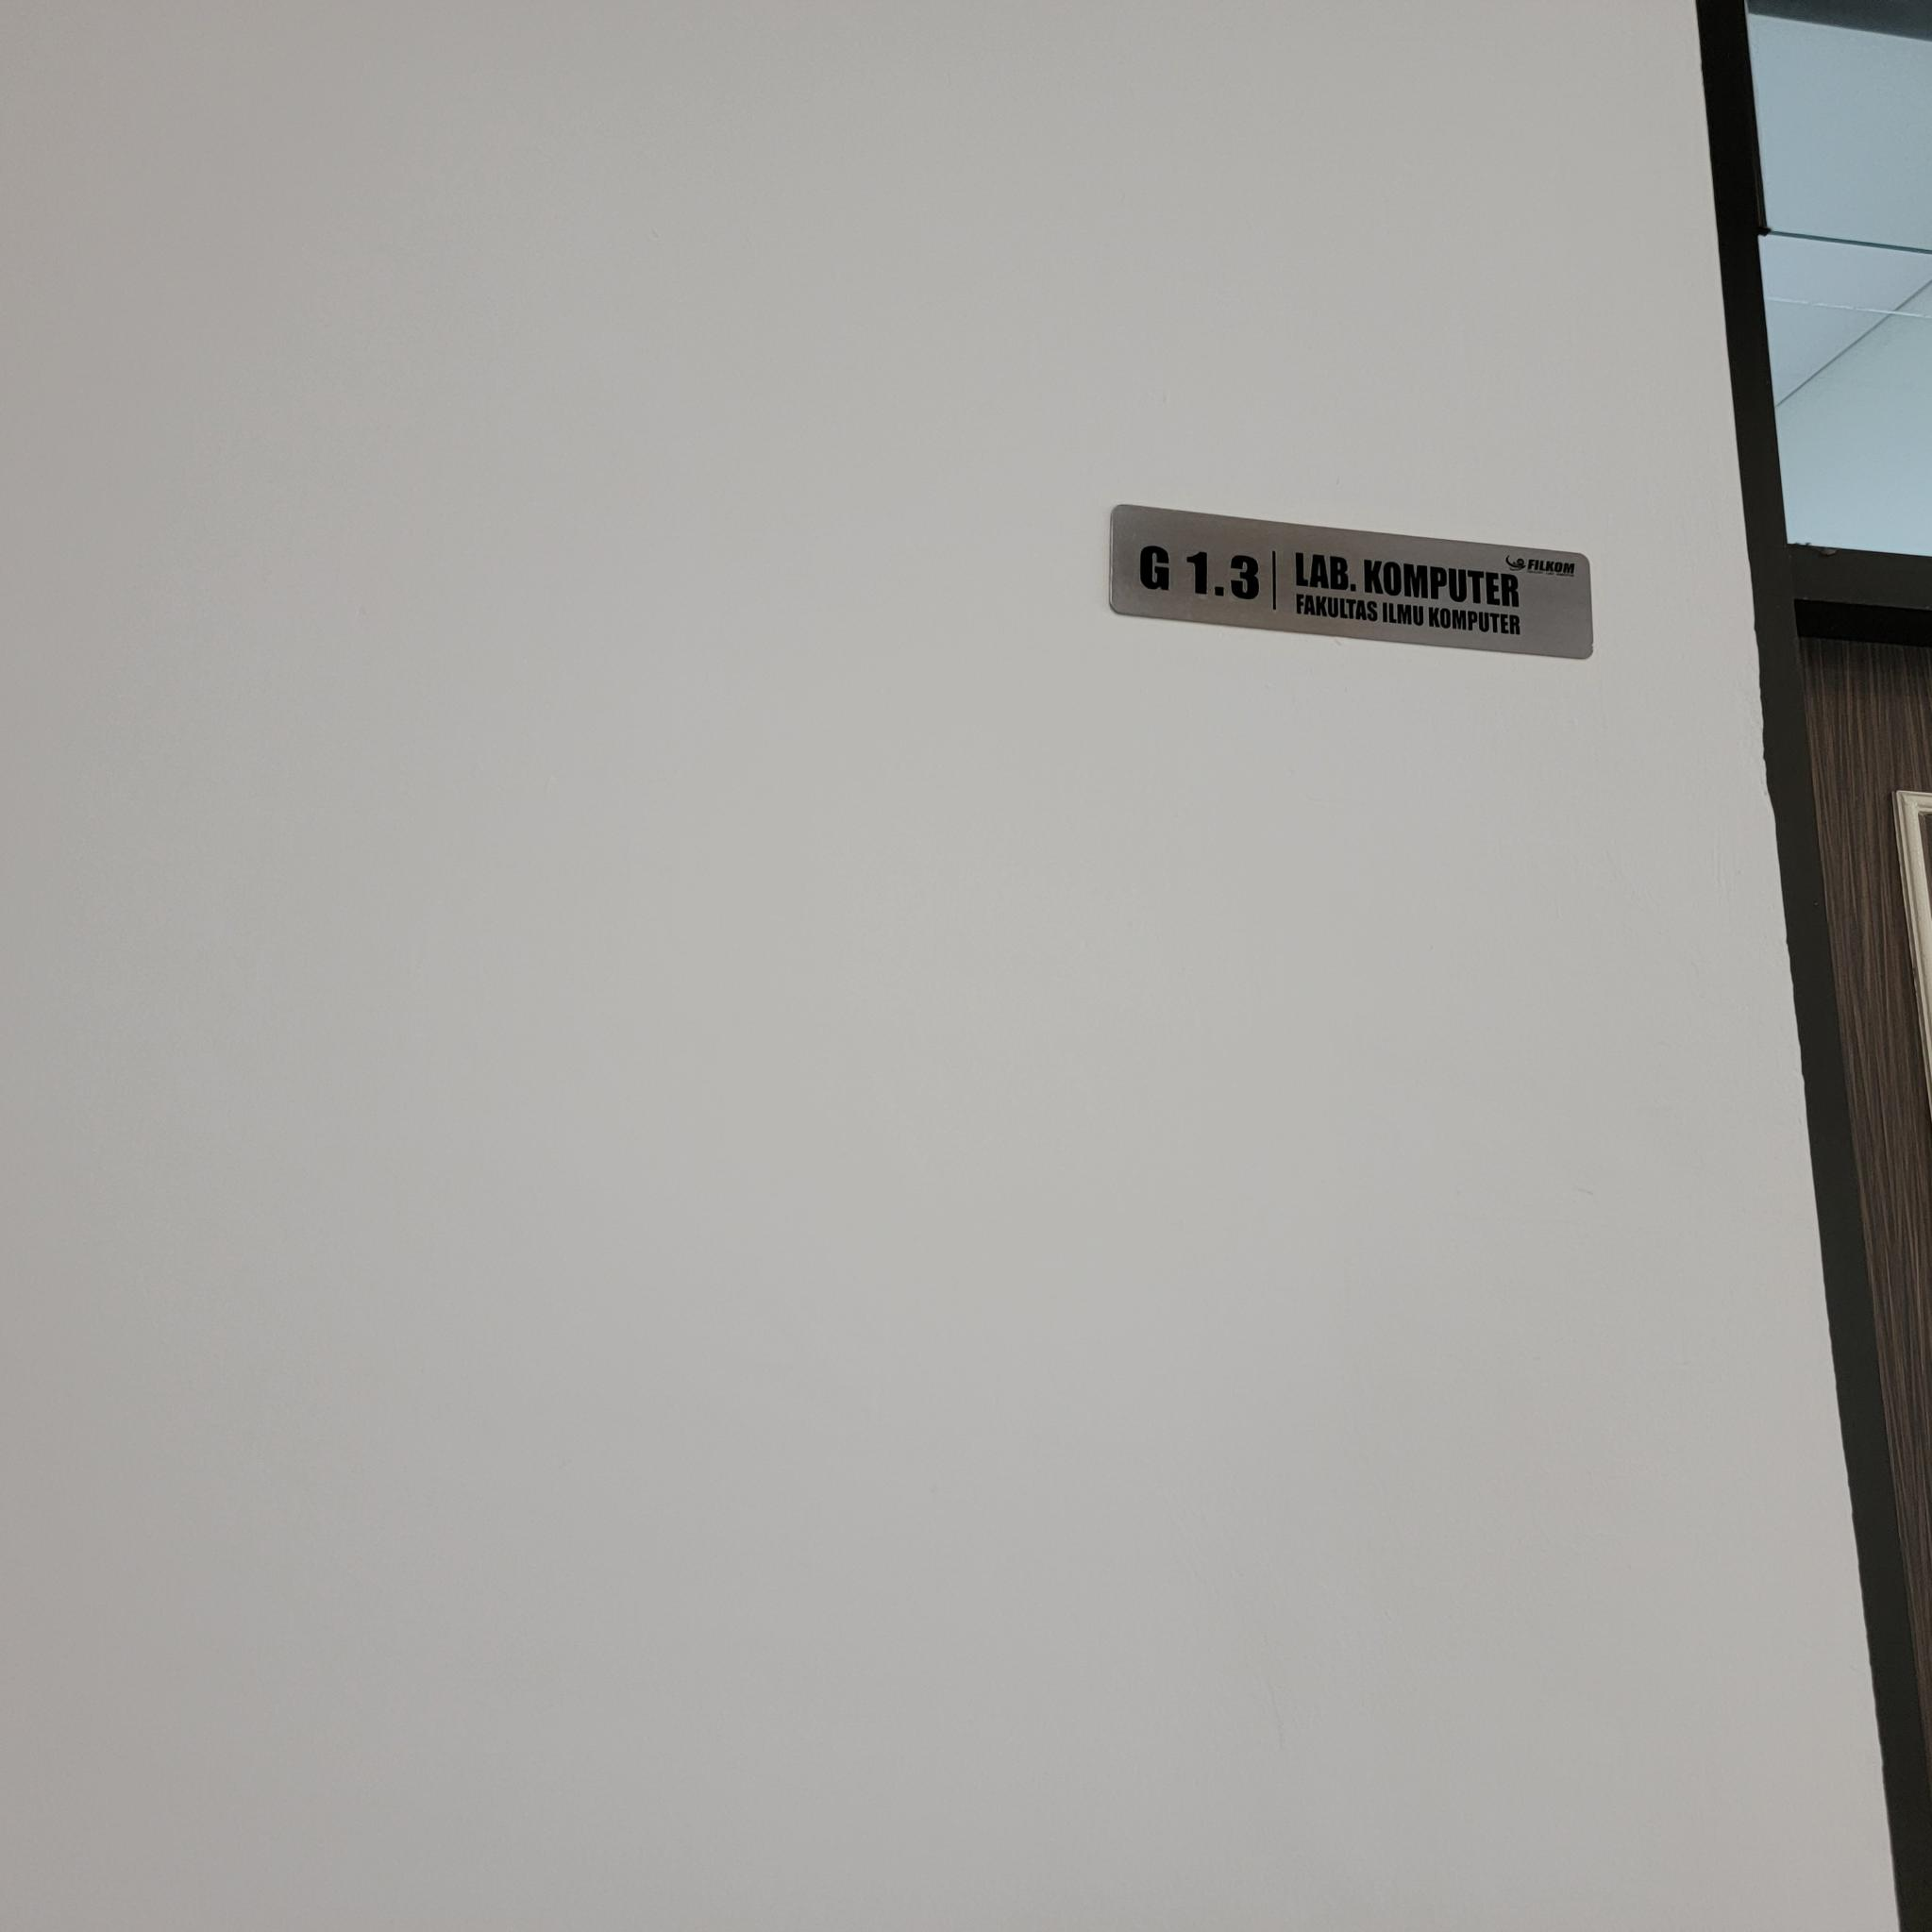plate: (1111, 502, 1598, 662)
